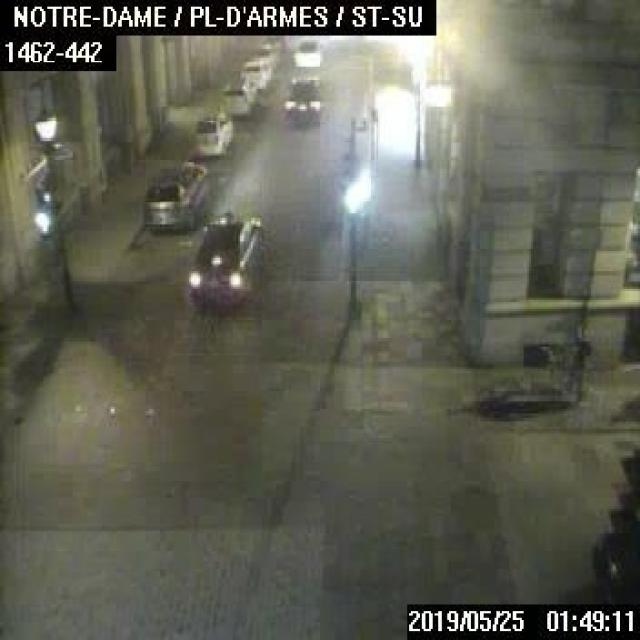pedestrian: (567, 326, 590, 396)
vehicle: (190, 215, 267, 309), (142, 160, 208, 233), (190, 109, 240, 161), (280, 78, 325, 124), (217, 74, 260, 116), (291, 35, 324, 68), (240, 58, 272, 88)
